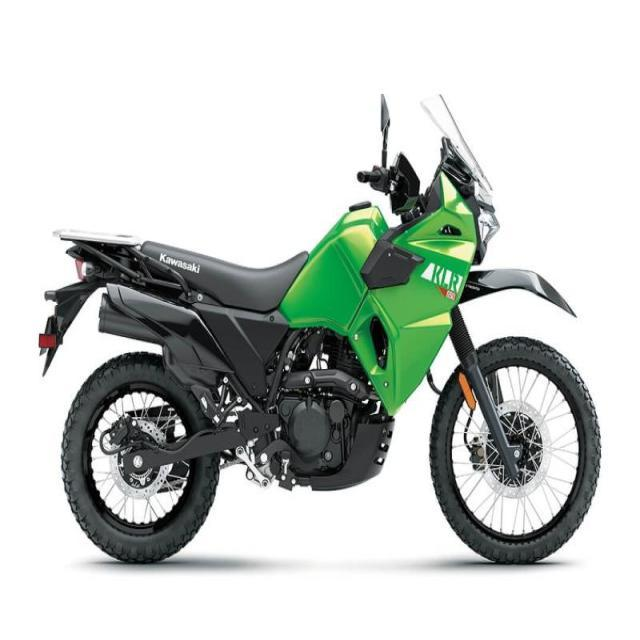motorcycle: (38, 90, 602, 566)
